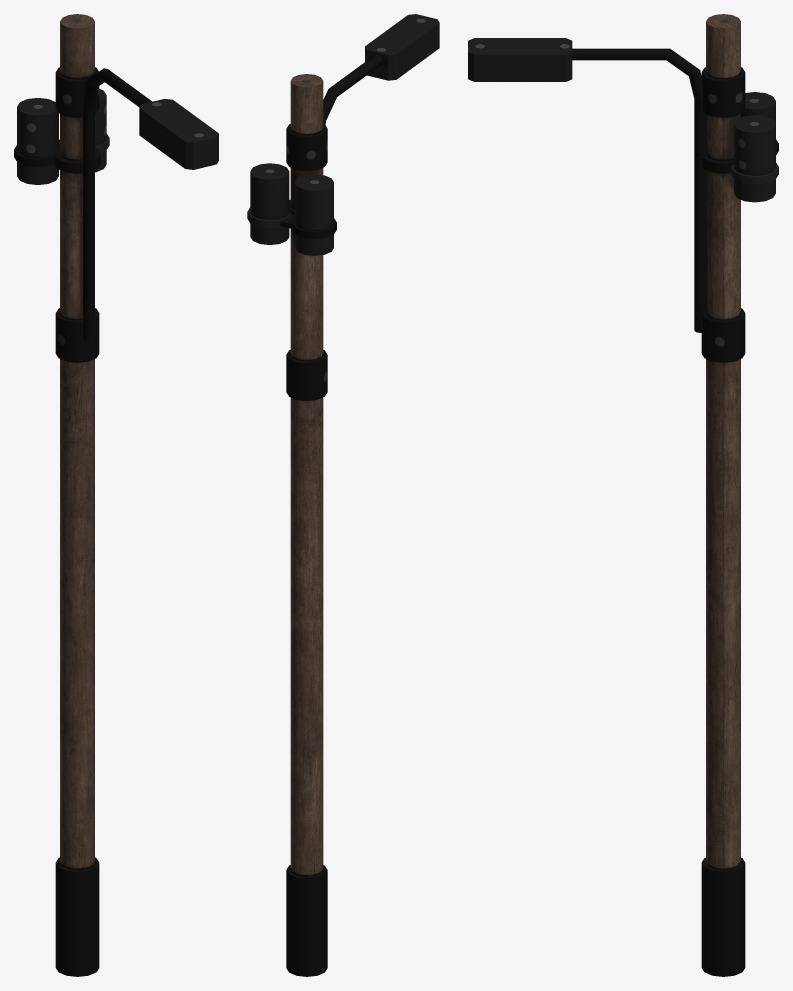
The model's file is lightpole.fbx.
The picture shows the model from 3 angles, left to right: view 1: azimuth 30°, elevation 25°; view 2: azimuth 150°, elevation 25°; view 3: azimuth 270°, elevation 25°; orthographic projection. The views are drawn at different scales.
Parts seen in each view (by area): view 1: lightpole; view 2: lightpole; view 3: lightpole.
Part boxes in pixels (<box>): lightpole: <box>14,14,218,976</box>; lightpole: <box>247,14,439,976</box>; lightpole: <box>468,14,778,976</box>.
Bounding box in the file's own units: 49.3 × 500 × 149.
